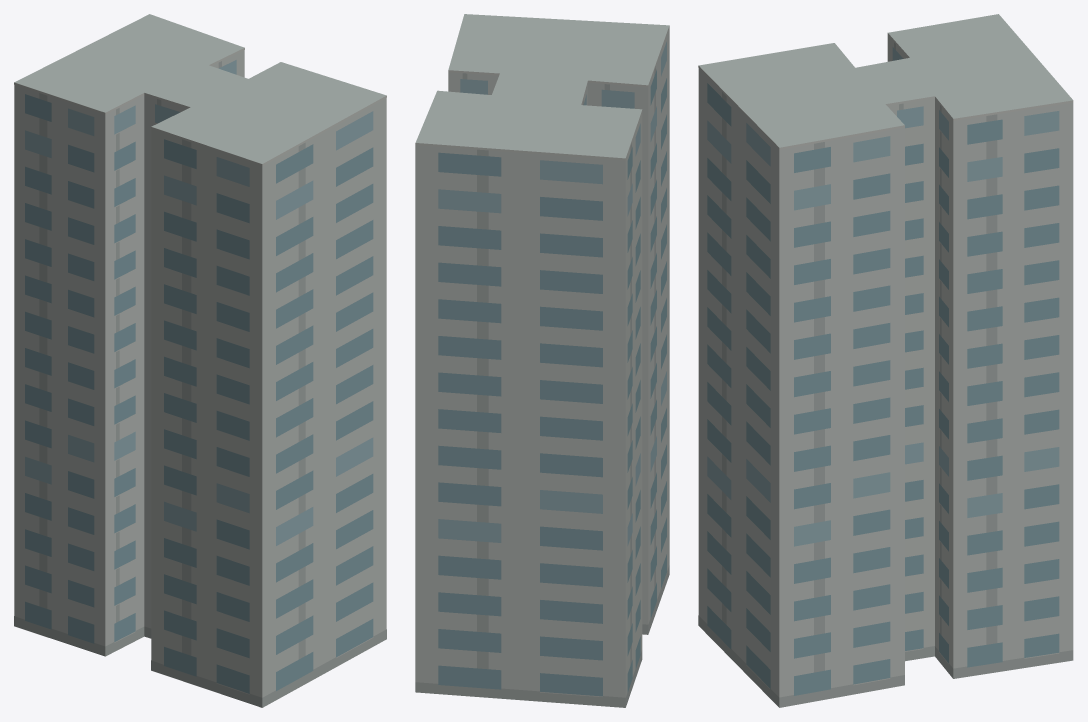
File: residential-91f48121-8b70-4263-b1ca-d1db3198561c.glb
The picture shows the model from 3 angles, left to right: view 1: azimuth 30°, elevation 25°; view 2: azimuth 150°, elevation 25°; view 3: azimuth 270°, elevation 25°; orthographic projection. The views are drawn at different scales.
Visible parts, largest first — view 1: residential-91f48121-8b70-4263-b1ca-d1db3198561c.tmp; view 2: residential-91f48121-8b70-4263-b1ca-d1db3198561c.tmp; view 3: residential-91f48121-8b70-4263-b1ca-d1db3198561c.tmp.
Part boxes in pixels (bbox=[...]): residential-91f48121-8b70-4263-b1ca-d1db3198561c.tmp: bbox=[14, 14, 386, 707]; residential-91f48121-8b70-4263-b1ca-d1db3198561c.tmp: bbox=[415, 14, 669, 707]; residential-91f48121-8b70-4263-b1ca-d1db3198561c.tmp: bbox=[698, 14, 1073, 707].
Size of the model in its own units: 31.25 by 61 by 37.01.
